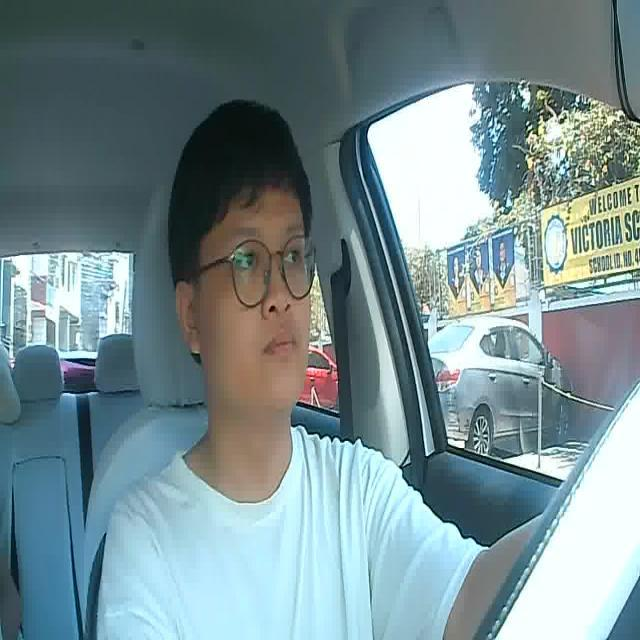Attentive: (174, 105, 320, 422)
Eye-Open: (232, 250, 265, 276), (282, 245, 304, 268)
Normal: (264, 329, 300, 364)
